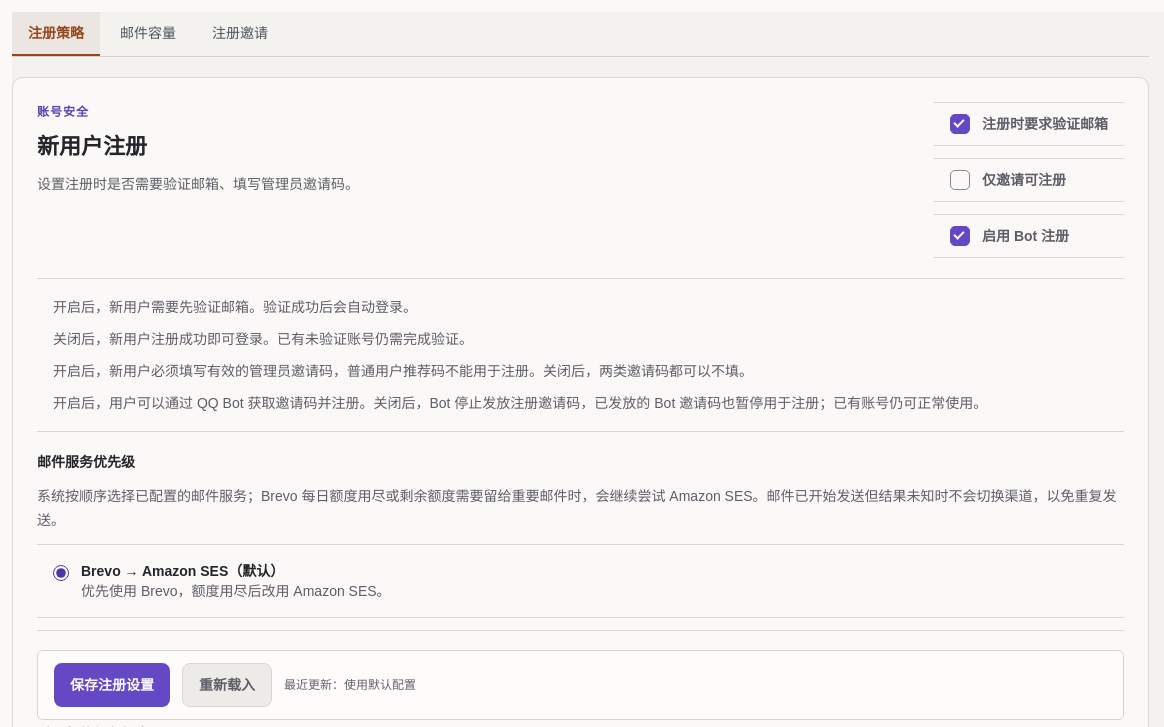
RegistrationSettingsSection › loads the default-on setting and saves an explicit disabled value
The image size is (1164, 727).
Expected: the checkbox labelled "启用 Bot 注册" is checked, [950, 226, 970, 246]
Expected: the checkbox labelled "仅邀请可注册" is not checked, [950, 170, 970, 190]
Click the checkbox labelled "注册时要求验证邮箱": (960, 124) [950, 114, 970, 134]
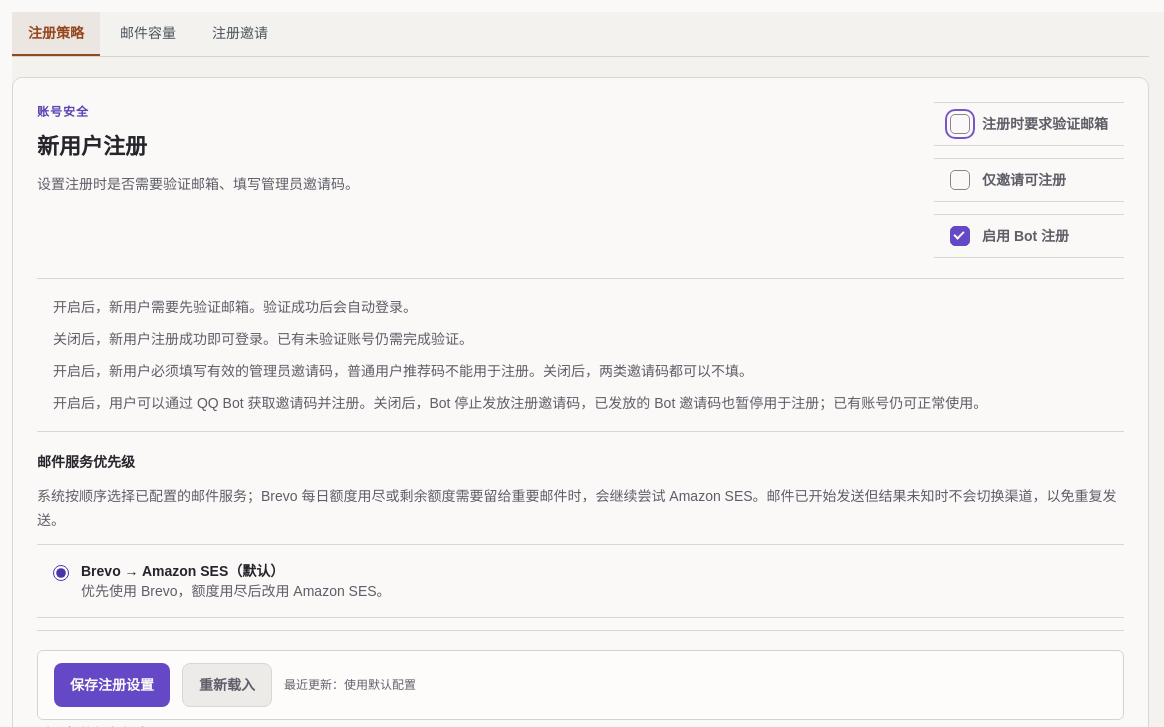
Click the checkbox labelled "仅邀请可注册": (960, 180) [950, 170, 970, 190]
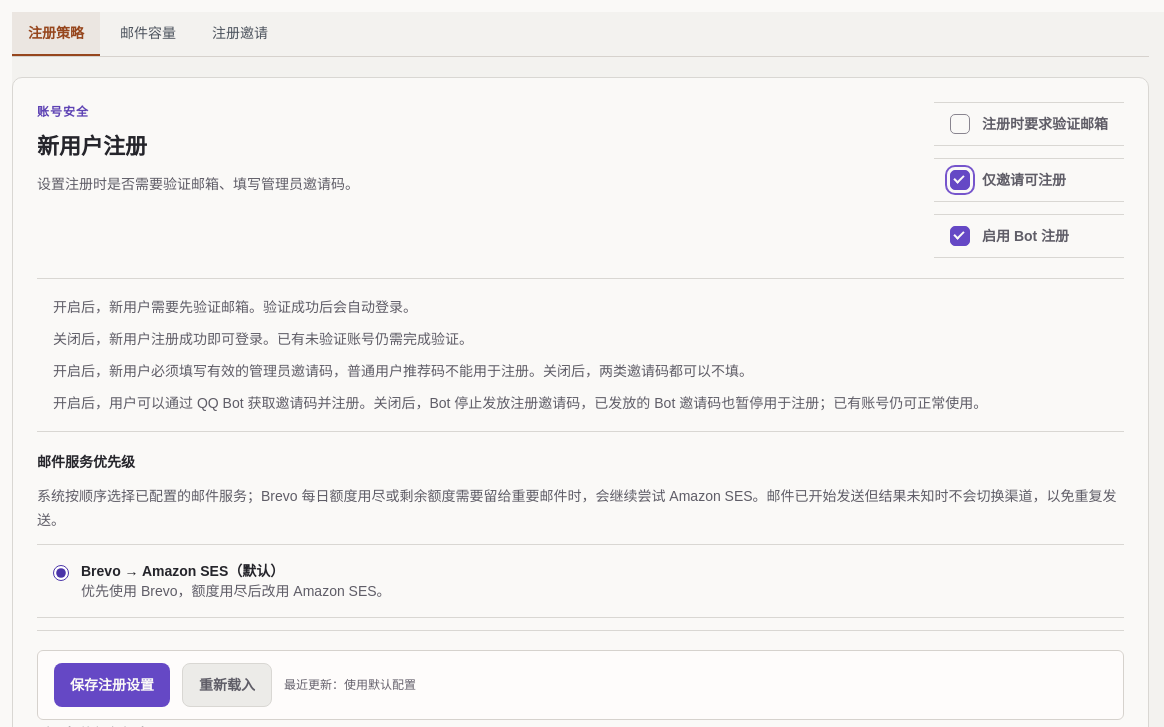
Click the checkbox labelled "启用 Bot 注册": (960, 236) [950, 226, 970, 246]
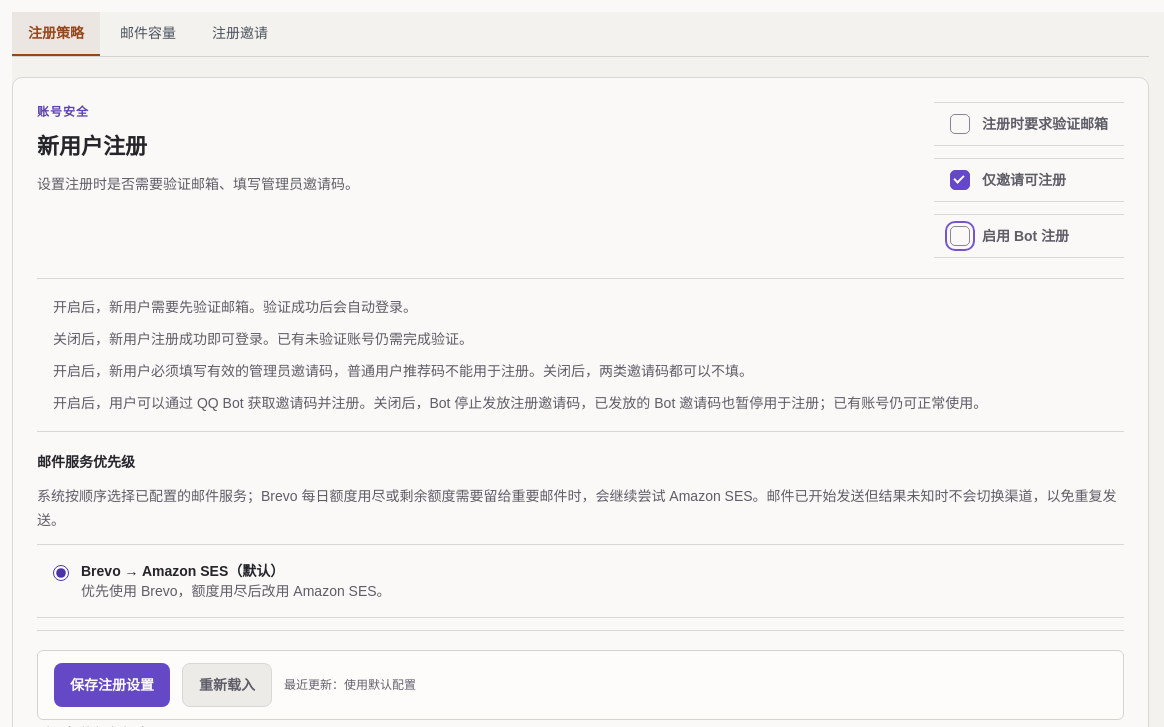
Click the button "保存注册设置": (112, 685) [54, 663, 170, 707]
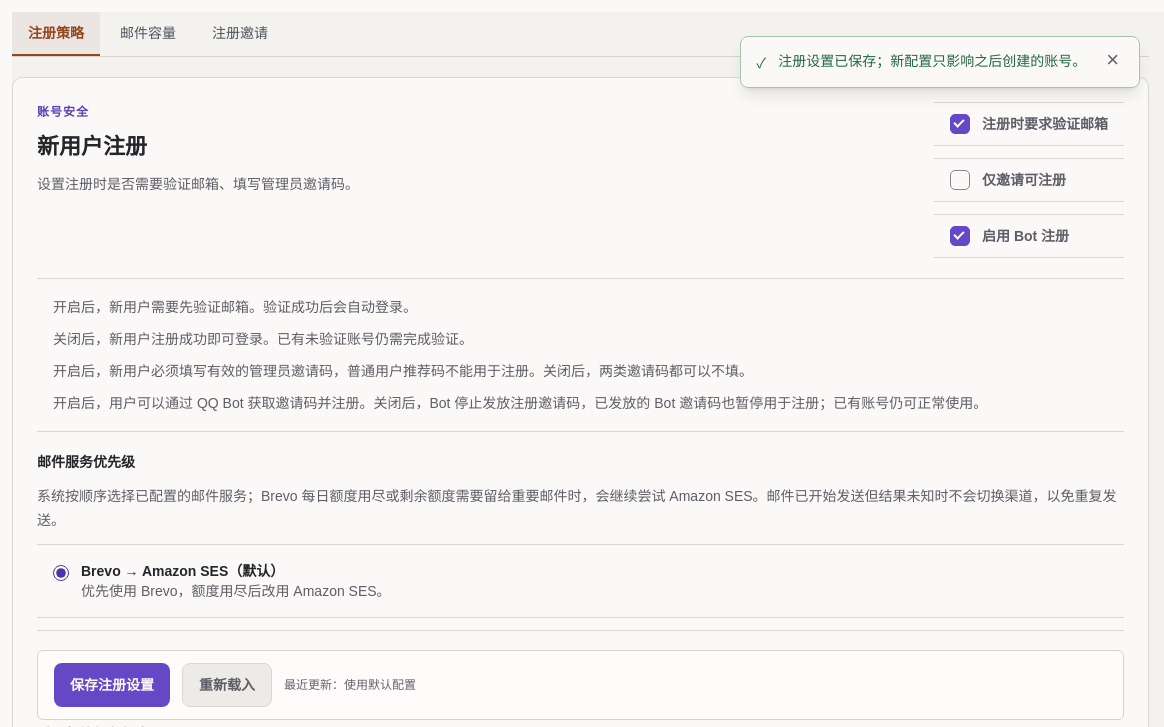
Expected: the text "注册设置已保存；新配置只影响之后创建的账号。" is shown, [778, 49, 1086, 73]
